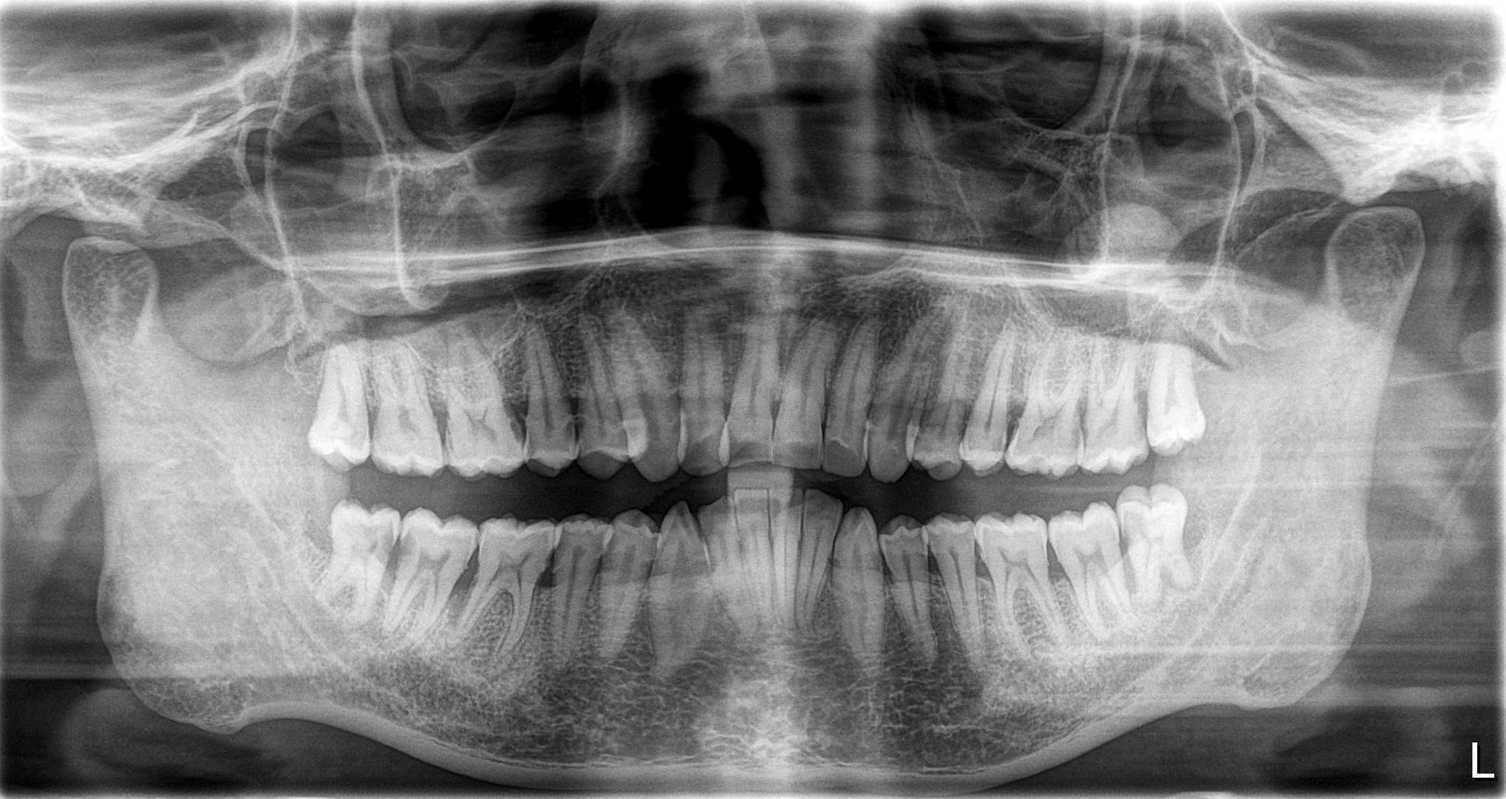Dental Caries: (343, 511, 416, 603)
Impacted Third Molar: (1118, 489, 1227, 626)
